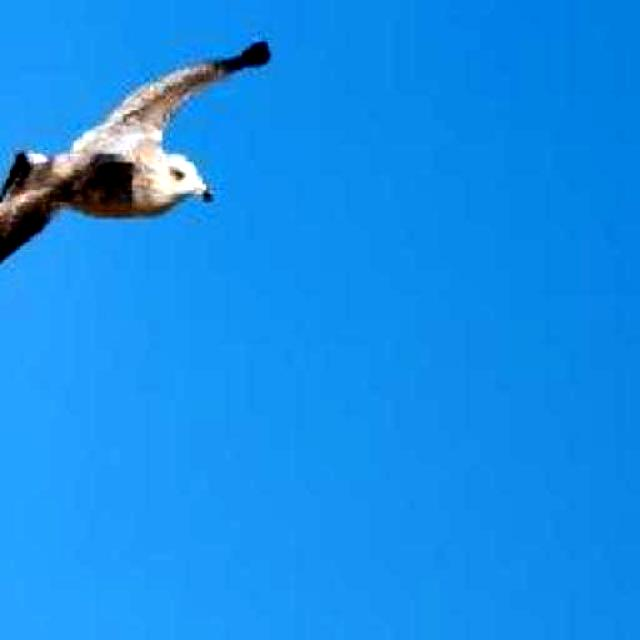airplane: (0, 38, 271, 288)
